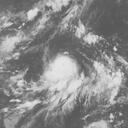cyclone: (38, 52, 89, 104)
